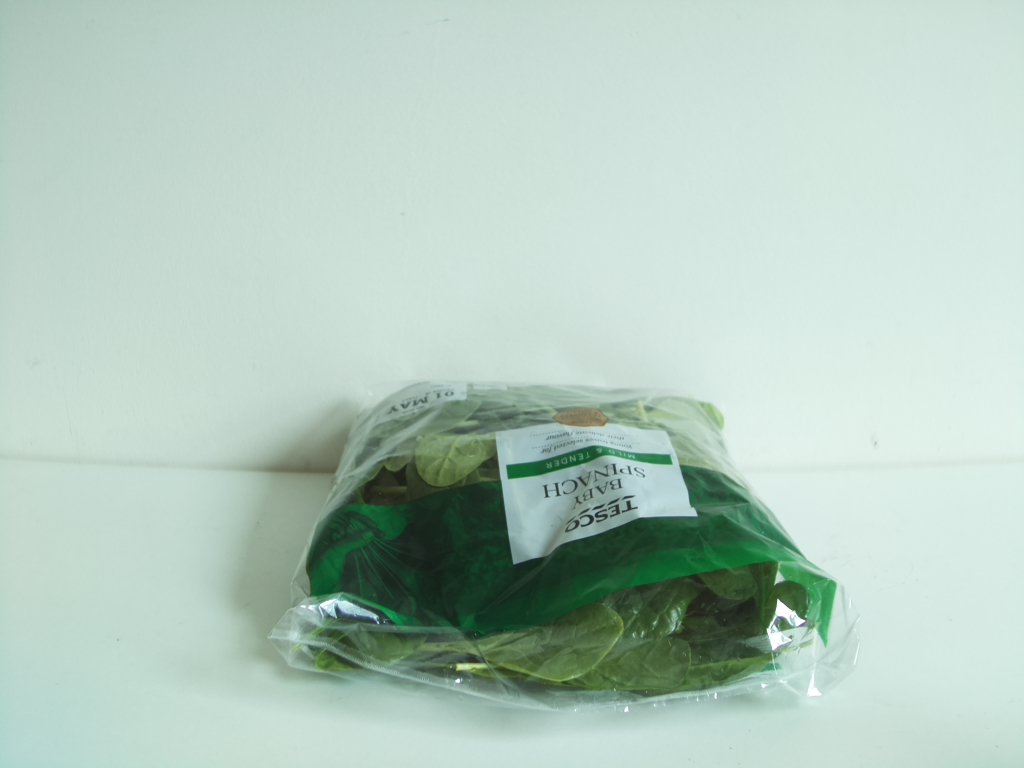salad: (287, 380, 831, 698)
